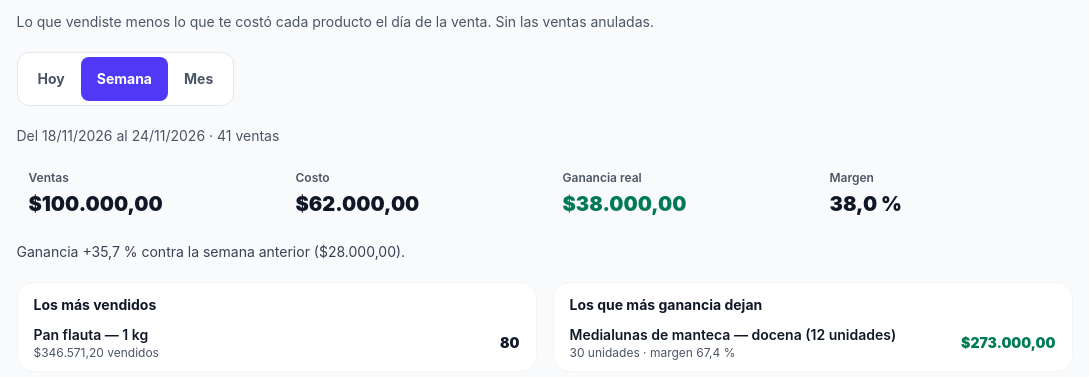
Test: Ganancia real (/ventas/ganancia) › cambia a hoy y al mes
The image size is (1089, 377).
Check: the element named "Totales del período" is shown, box [16,126,1072,262]
Click the button "Hoy". click: (51, 79)
box: [22,57,81,101]
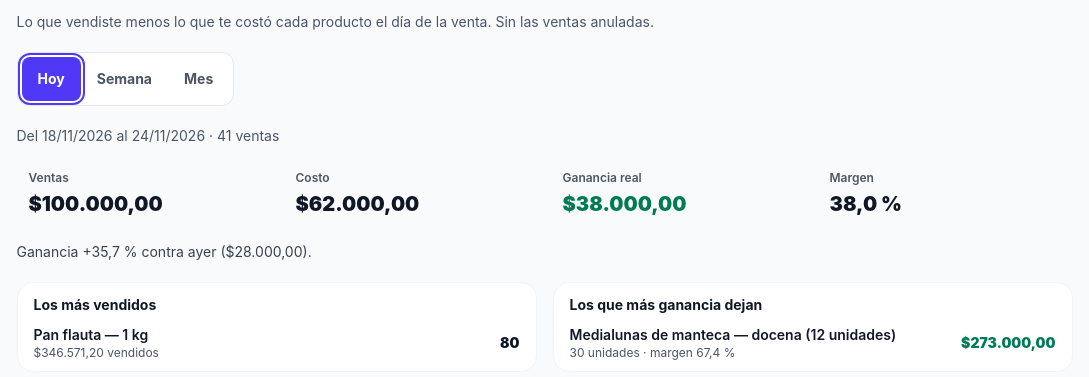
Click the button "Mes". click: (199, 79)
box: [168,57,229,101]
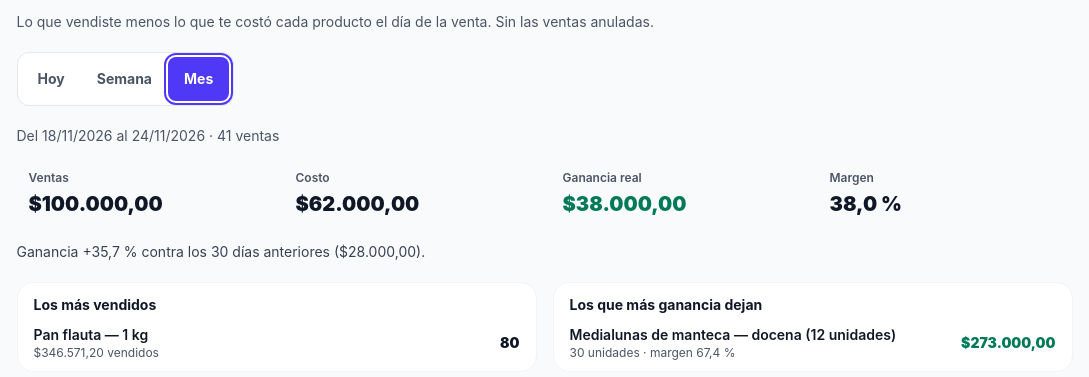
Check: the button "Mes" is pressed, box [168,57,229,101]
